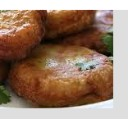cutlet: (13, 46, 114, 103), (1, 8, 42, 58), (40, 9, 100, 35)
